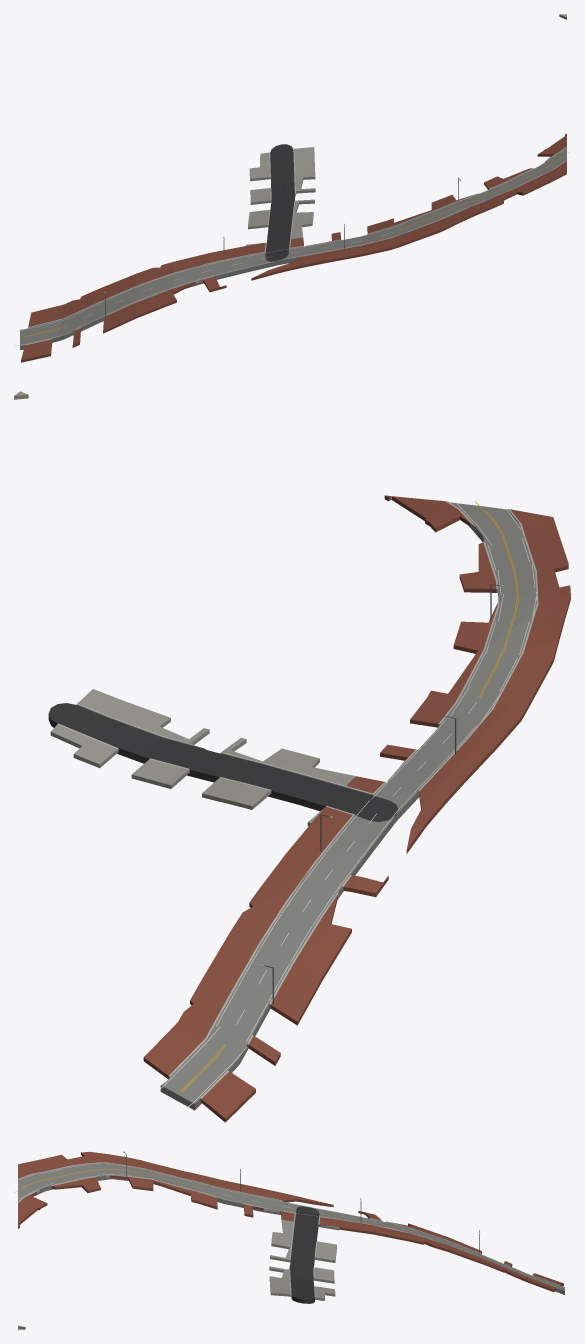
3 renders of one model, top to bottom at view 1: azimuth 90°, elevation 25°; view 2: azimuth 150°, elevation 25°; view 3: azimuth 270°, elevation 25°, orthographic. The views are drawn at different scales.
Bounding box in the file's own units: 124 × 46.5 × 148.
